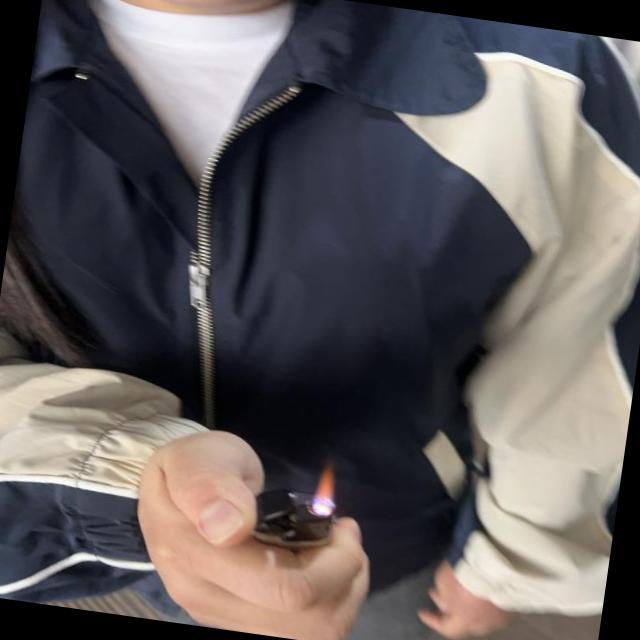Fire: (308, 463, 343, 518)
